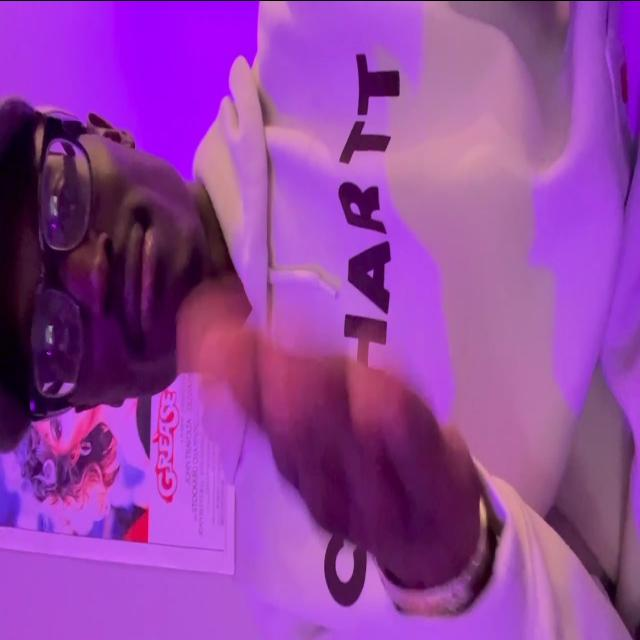Paper: (177, 296, 482, 592)
